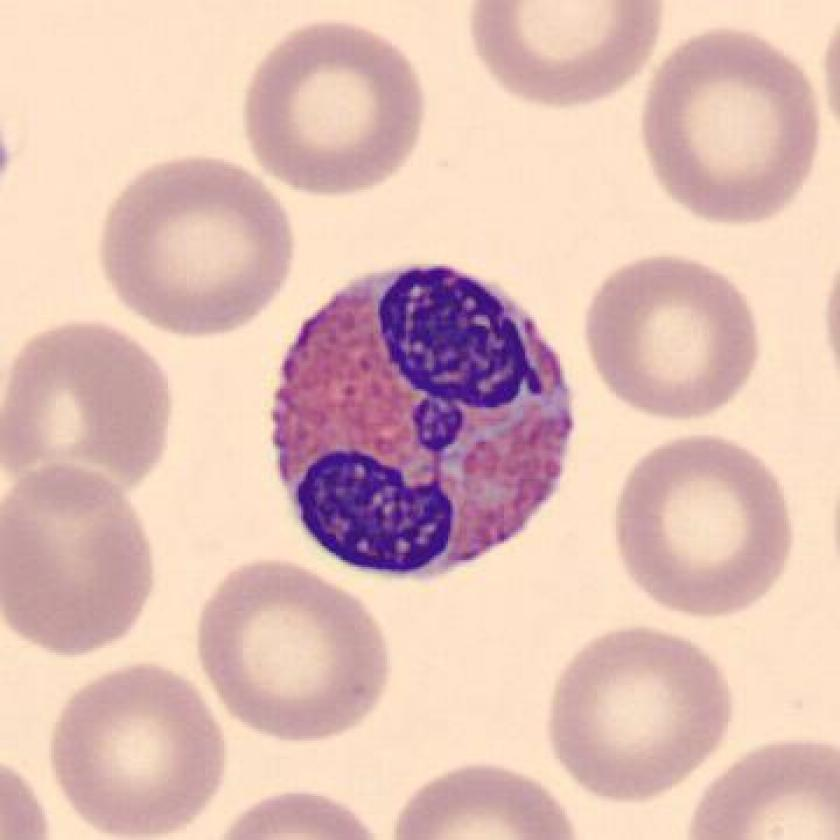eosinophil: (258, 251, 587, 589)
